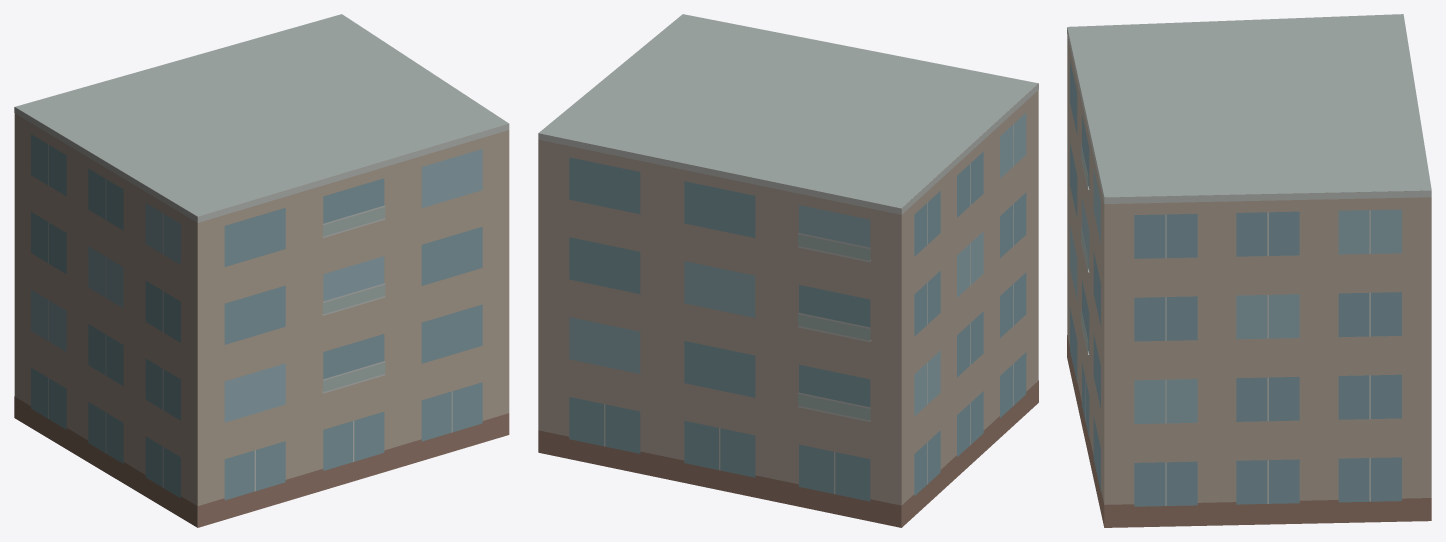
Rendered from survey-upis-32993557.glb.
3 views of the same model, side by side, from view 1: azimuth 30°, elevation 25°; view 2: azimuth 150°, elevation 25°; view 3: azimuth 270°, elevation 25° (orthographic). The views are drawn at different scales.
Parts seen in each view (by area): view 1: survey-upis-32993557.tmp; view 2: survey-upis-32993557.tmp; view 3: survey-upis-32993557.tmp.
Part boxes in pixels (box(x1,y1,x2,y2)): survey-upis-32993557.tmp: box(14, 14, 509, 527); survey-upis-32993557.tmp: box(538, 14, 1038, 527); survey-upis-32993557.tmp: box(1067, 14, 1431, 527).
Bounding box in the file's own units: 14.41 × 12.1 × 12.11.
